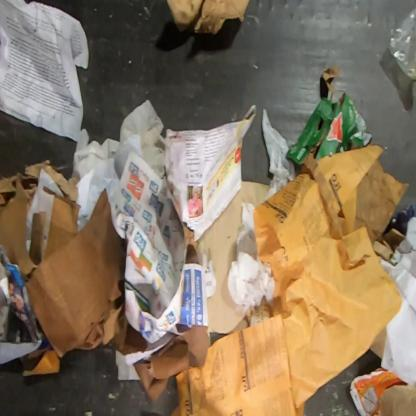cardboard: (26, 188, 148, 359), (205, 180, 270, 350), (0, 167, 82, 283), (284, 63, 373, 166), (132, 325, 209, 403), (353, 159, 410, 245), (164, 0, 252, 36), (373, 228, 407, 267), (369, 326, 386, 360)
rigid_plastic: (388, 4, 415, 84)
